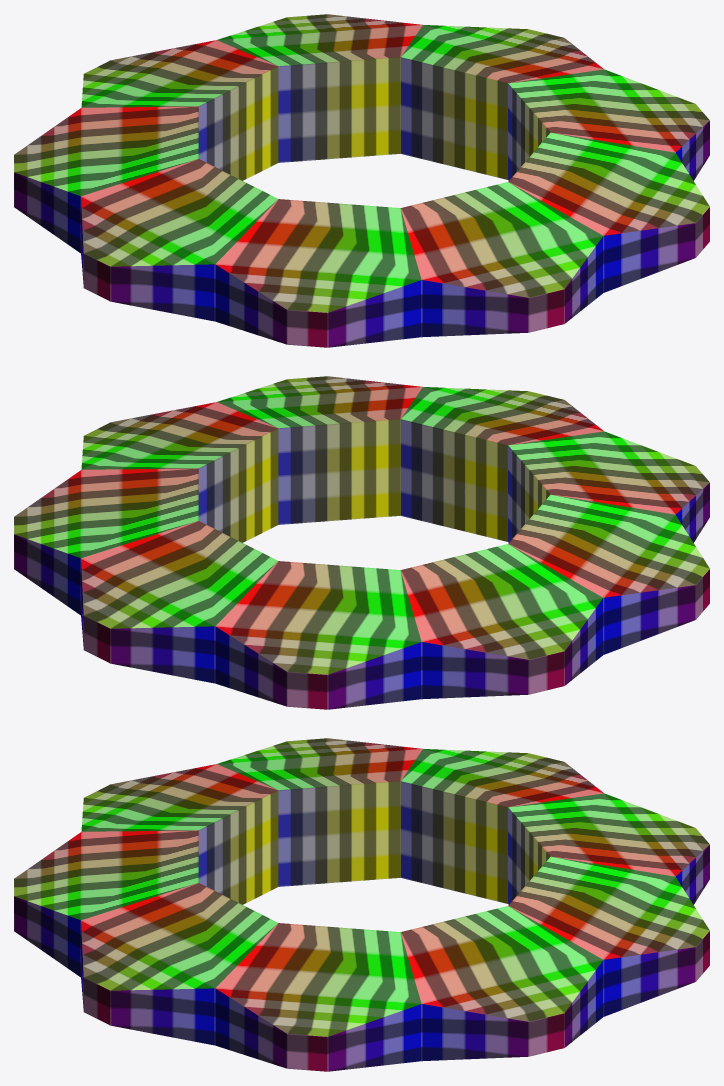
The model's file is gear.obj.
The picture shows the model from 3 angles, top to bottom: view 1: azimuth 30°, elevation 25°; view 2: azimuth 150°, elevation 25°; view 3: azimuth 270°, elevation 25°; orthographic projection.
Visible parts, largest first — view 1: Dark_Gear_Circle; view 2: Dark_Gear_Circle; view 3: Dark_Gear_Circle.
Boxes of the visible parts, x1,y1,x2,y2 form: Dark_Gear_Circle: [14, 14, 709, 347]; Dark_Gear_Circle: [14, 376, 709, 709]; Dark_Gear_Circle: [14, 738, 709, 1071].
Size of the model in its own units: 1.33 by 0.2007 by 1.31.
